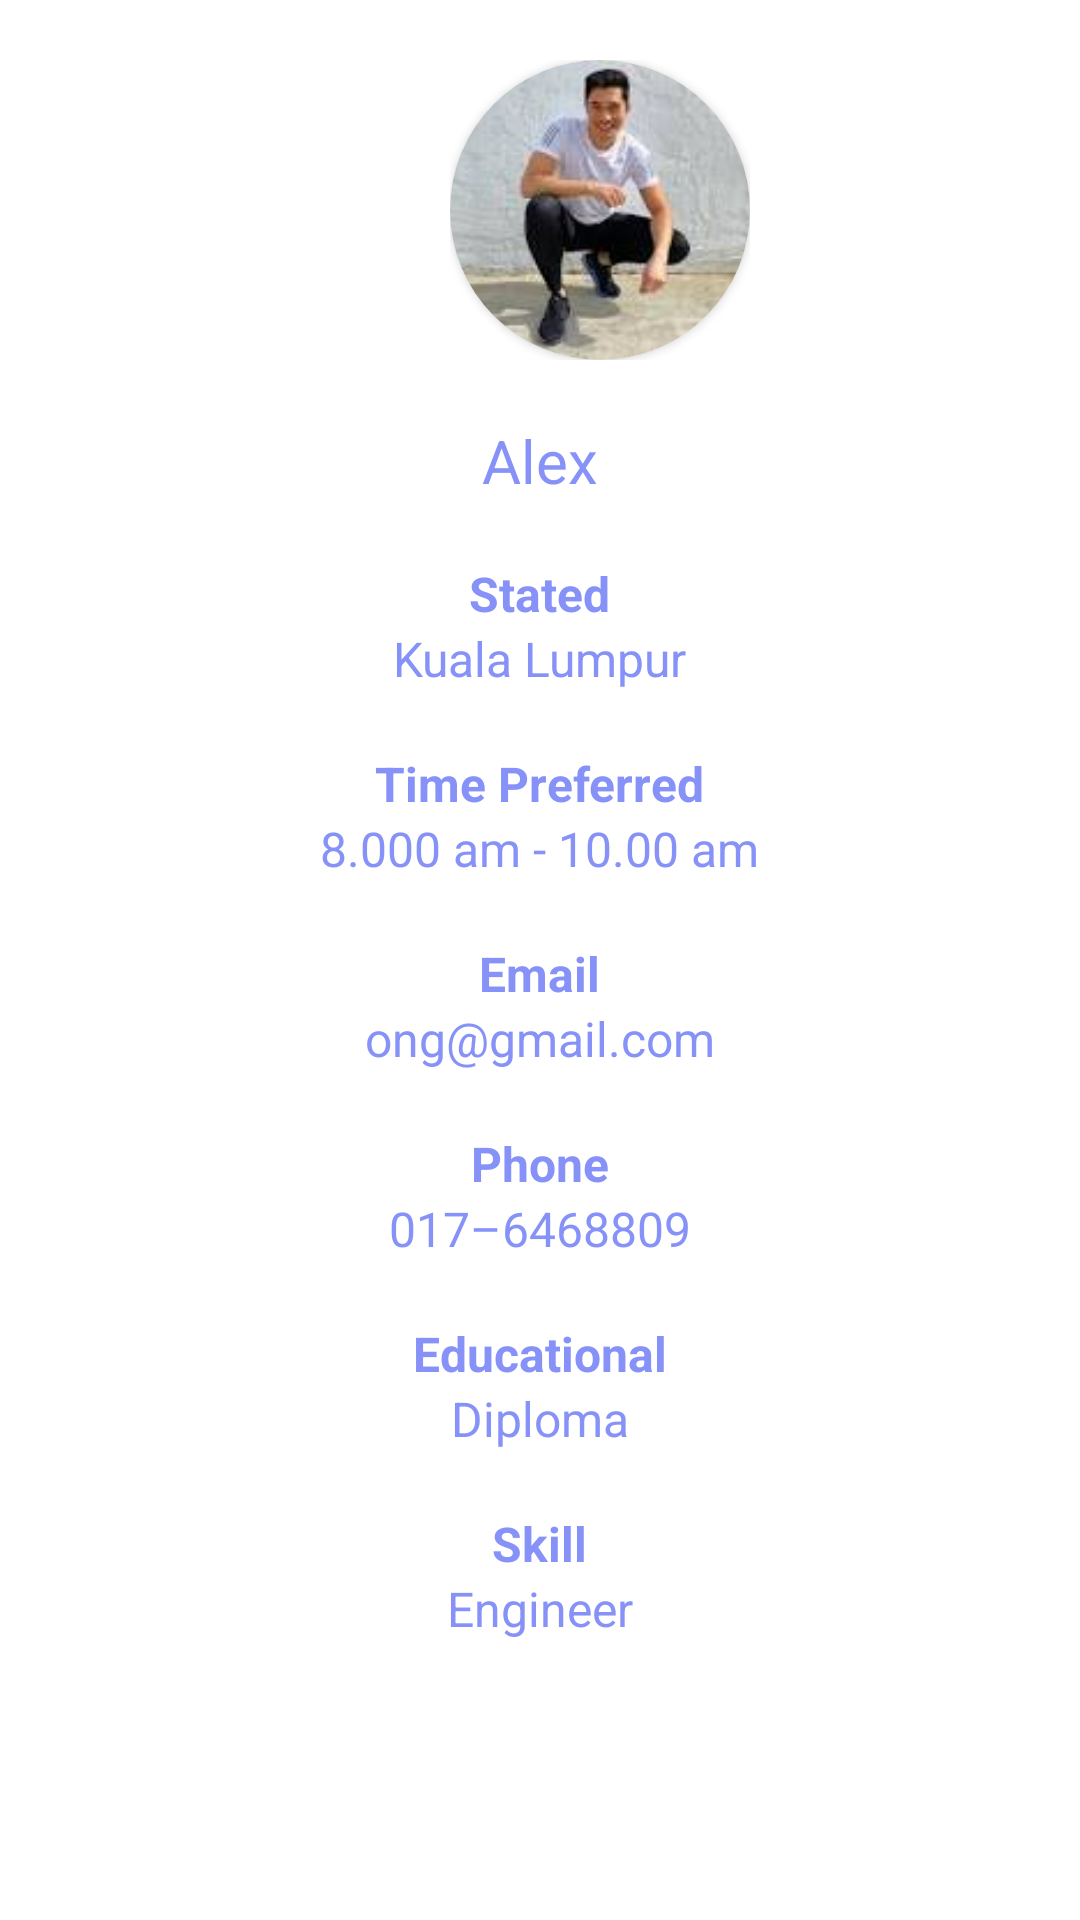

Locate icon controls on the screen. Image size 1080×1920, boxes as (x1, y1, x2, y2).
images: (450, 60, 750, 360)
